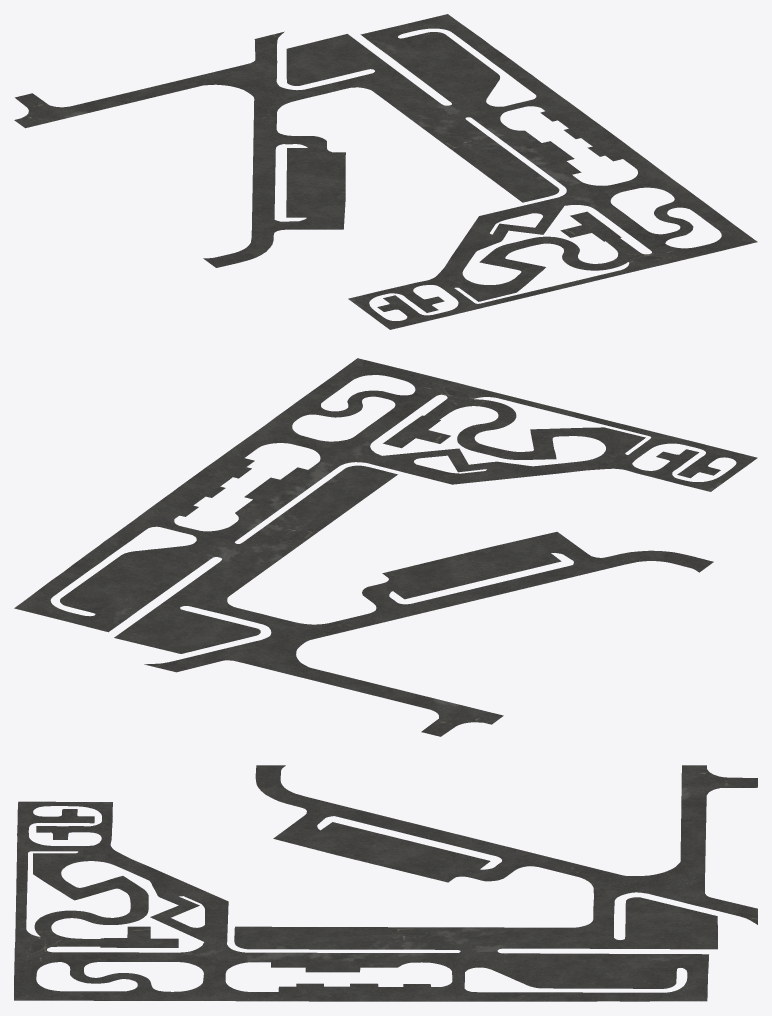
Rendered from Asphalt22.glb.
3 renders of one model, top to bottom at view 1: azimuth 30°, elevation 25°; view 2: azimuth 150°, elevation 25°; view 3: azimuth 270°, elevation 25°, orthographic. The views are drawn at different scales.
Visible parts, largest first — view 1: Plane; view 2: Plane; view 3: Plane.
Boxes of the visible parts, x1=… form: Plane: x1=14, y1=14, x2=757, y2=329; Plane: x1=14, y1=358, x2=757, y2=736; Plane: x1=14, y1=765, x2=757, y2=1001.
Bounding box in the file's own units: 3.55 × 0 × 4.72.
Materials: 1 (1 with a texture image).
